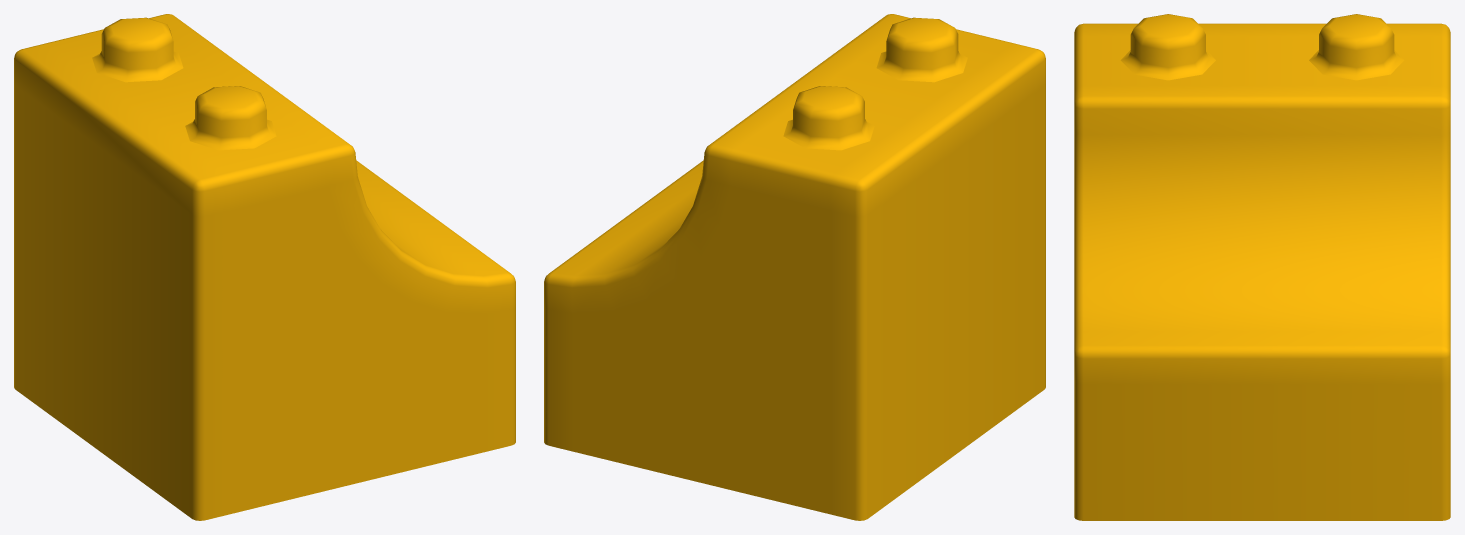
Rendered from Quarter_Circle_Bottom.fbx.
The picture shows the model from 3 angles, left to right: view 1: azimuth 30°, elevation 25°; view 2: azimuth 150°, elevation 25°; view 3: azimuth 270°, elevation 25°; orthographic projection.
Parts seen in each view (by area): view 1: Quarter_Circle_Bottom, Knobs.001; view 2: Quarter_Circle_Bottom, Knobs.001; view 3: Quarter_Circle_Bottom, Knobs.001.
Part boxes in pixels (box(x1,y1,x2,y2)): Quarter_Circle_Bottom: box(14, 14, 515, 520); Knobs.001: box(92, 17, 276, 150); Quarter_Circle_Bottom: box(544, 14, 1045, 520); Knobs.001: box(783, 17, 967, 150); Quarter_Circle_Bottom: box(1074, 23, 1450, 520); Knobs.001: box(1120, 14, 1404, 80).
Bounding box in the file's own units: 1 × 1.1 × 1.
